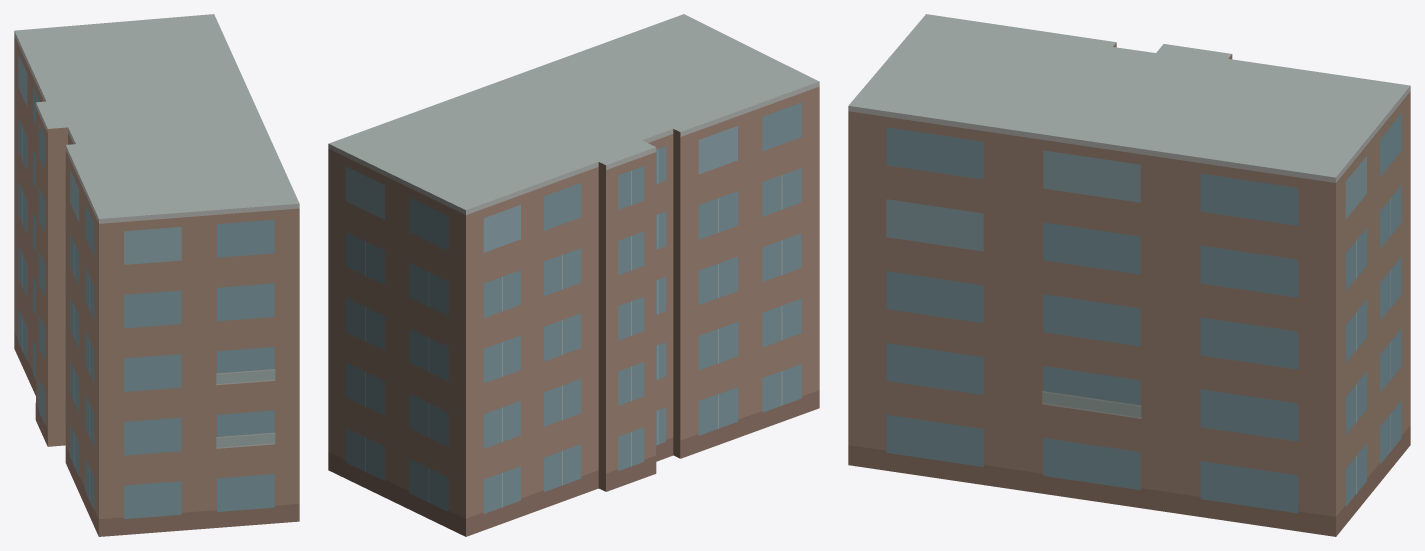
File: survey-upis-32913957.glb
The picture shows the model from 3 angles, left to right: view 1: azimuth 30°, elevation 25°; view 2: azimuth 150°, elevation 25°; view 3: azimuth 270°, elevation 25°; orthographic projection. The views are drawn at different scales.
Parts seen in each view (by area): view 1: survey-upis-32913957.tmp; view 2: survey-upis-32913957.tmp; view 3: survey-upis-32913957.tmp.
Boxes of the visible parts, x1,y1,x2,y2 form: survey-upis-32913957.tmp: [14, 14, 299, 536]; survey-upis-32913957.tmp: [328, 14, 819, 536]; survey-upis-32913957.tmp: [848, 14, 1410, 536].
Bounding box in the file's own units: 15.83 × 16.2 × 22.99.
